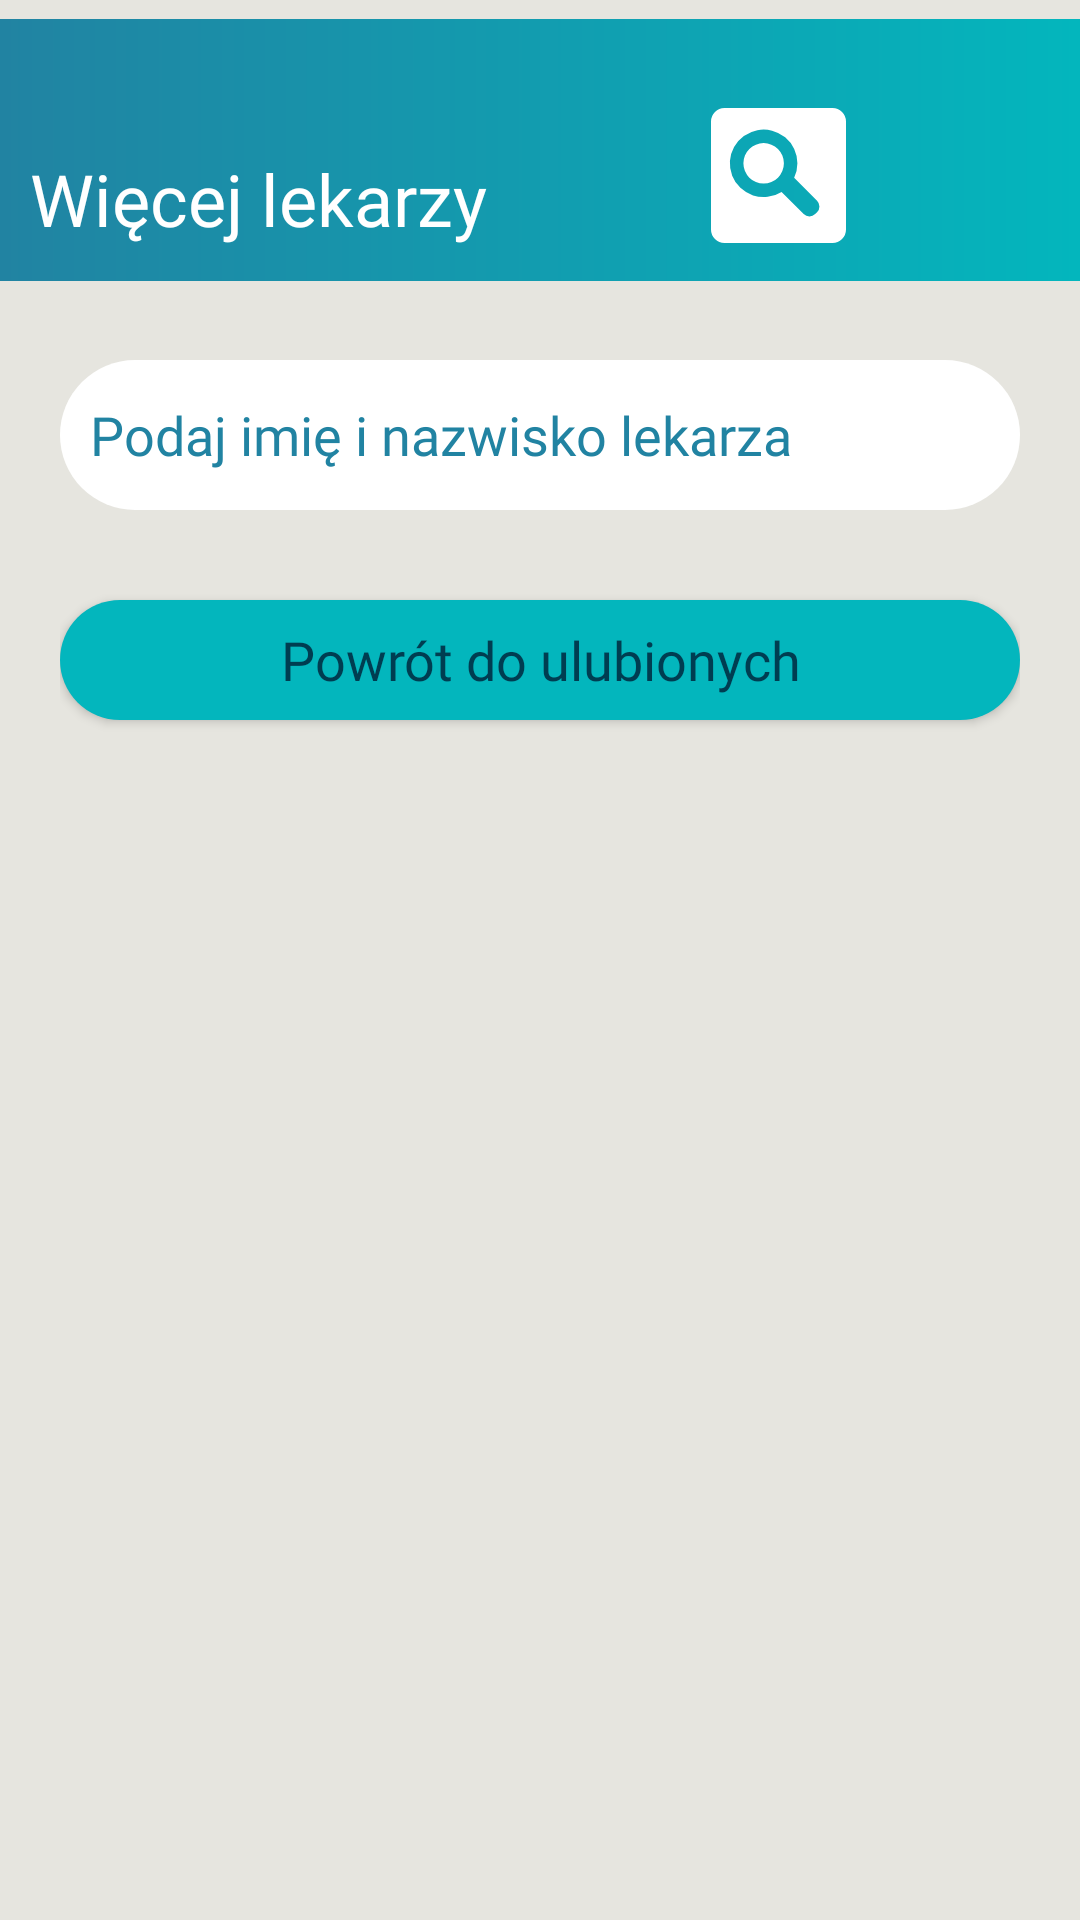

Icons on this 1080px x 1920px Android screen, each with the point to tap as (x=x, y=y):
wyszukiwanie: (x=778, y=175)
